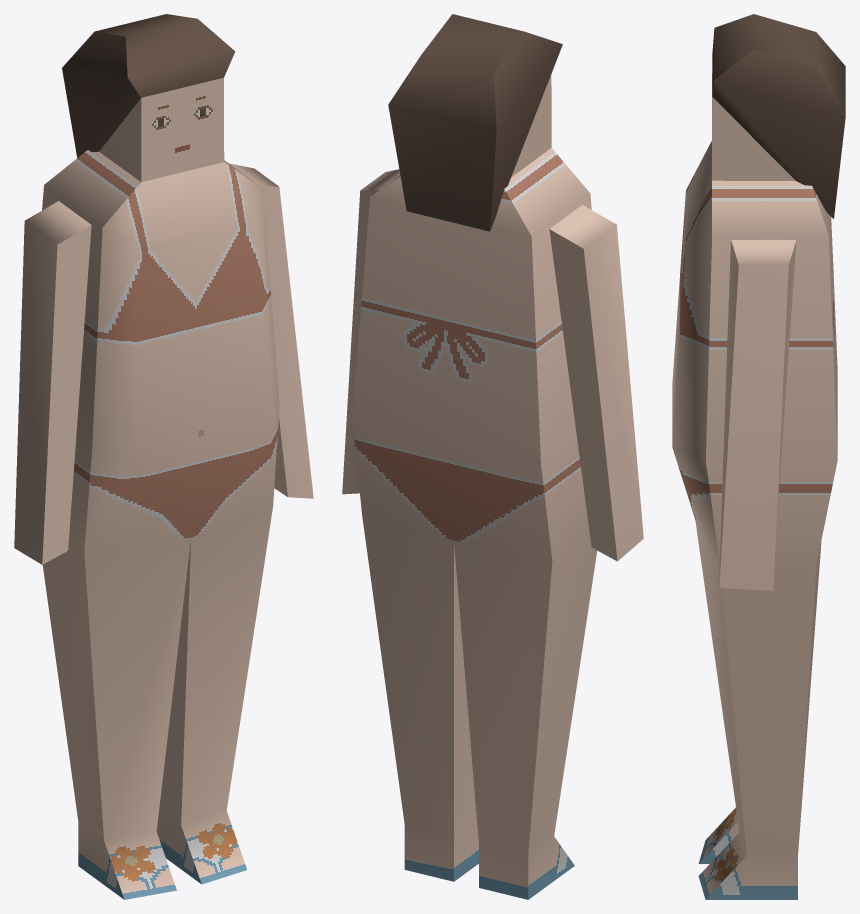
The model's file is 0238_Bikini_Girl.glb.
3 views of the same model, side by side, from view 1: azimuth 30°, elevation 25°; view 2: azimuth 150°, elevation 25°; view 3: azimuth 270°, elevation 25° (orthographic).
Visible parts, largest first — view 1: part_0; view 2: part_0; view 3: part_0.
Boxes of the visible parts, x1,y1,x2,y2 form: part_0: (14, 14, 313, 899); part_0: (342, 14, 643, 899); part_0: (672, 14, 845, 899).
Size of the model in its own units: 0.495 by 1.45 by 0.2717.
1 material, 1 textured.
